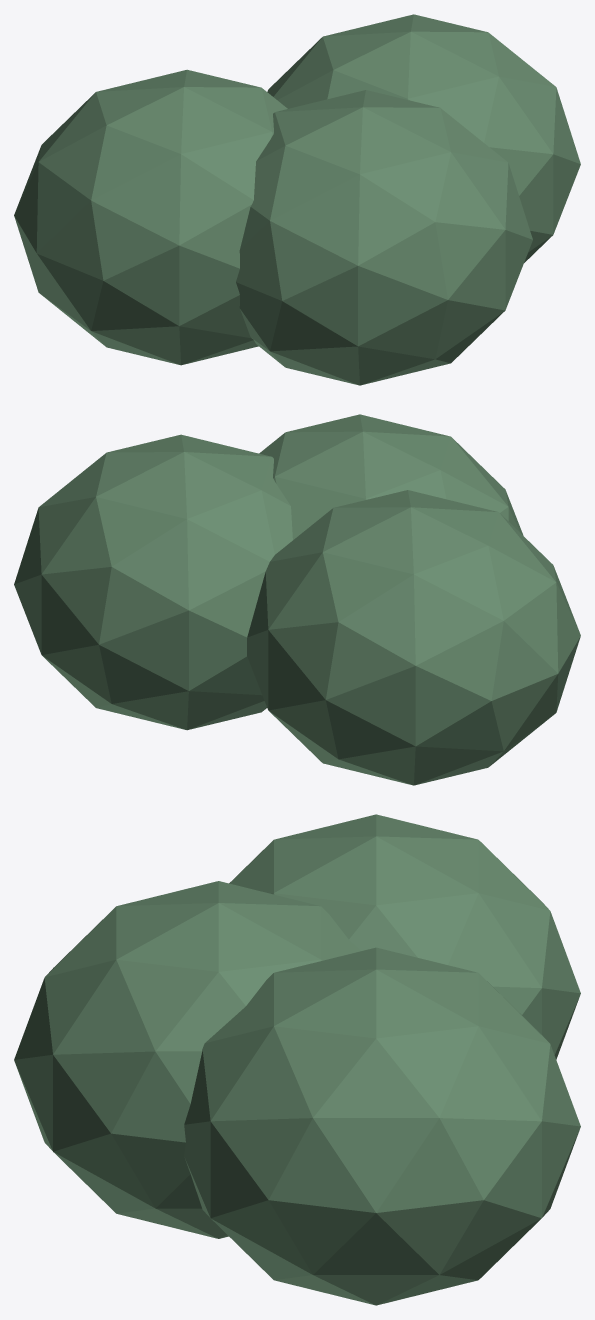
Rendered from arbustos.glb.
The picture shows the model from 3 angles, top to bottom: view 1: azimuth 30°, elevation 25°; view 2: azimuth 150°, elevation 25°; view 3: azimuth 270°, elevation 25°; orthographic projection. The views are drawn at different scales.
Visible parts, largest first — view 1: world; view 2: world; view 3: world.
Part boxes in pixels (x1=…): world: x1=14, y1=14, x2=580, y2=385; world: x1=14, y1=414, x2=580, y2=785; world: x1=14, y1=814, x2=580, y2=1305.
Bounding box in the file's own units: 2.3 × 1.1 × 1.8.
